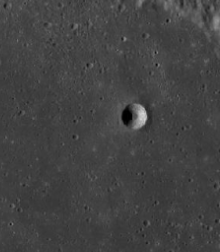crater: (106, 83, 170, 162)
